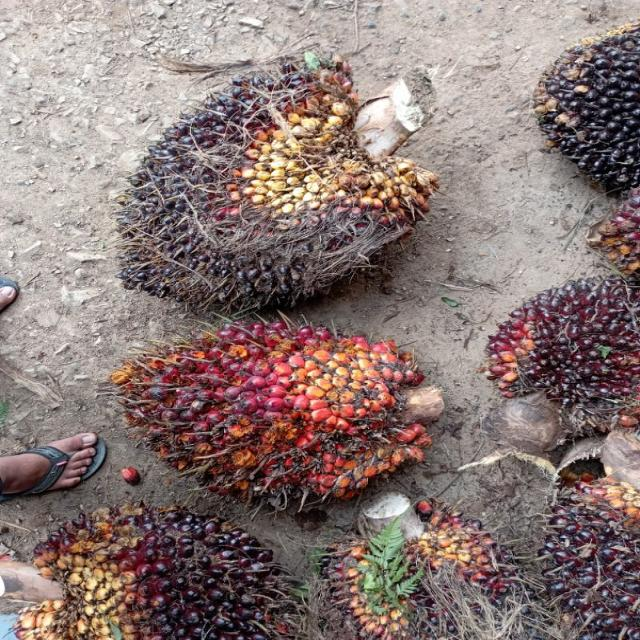fraksi 00: (69, 34, 468, 330)
fraksi 3: (50, 308, 480, 542)
